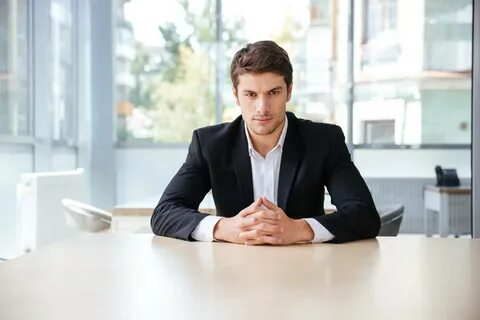awake: (149, 40, 382, 246)
